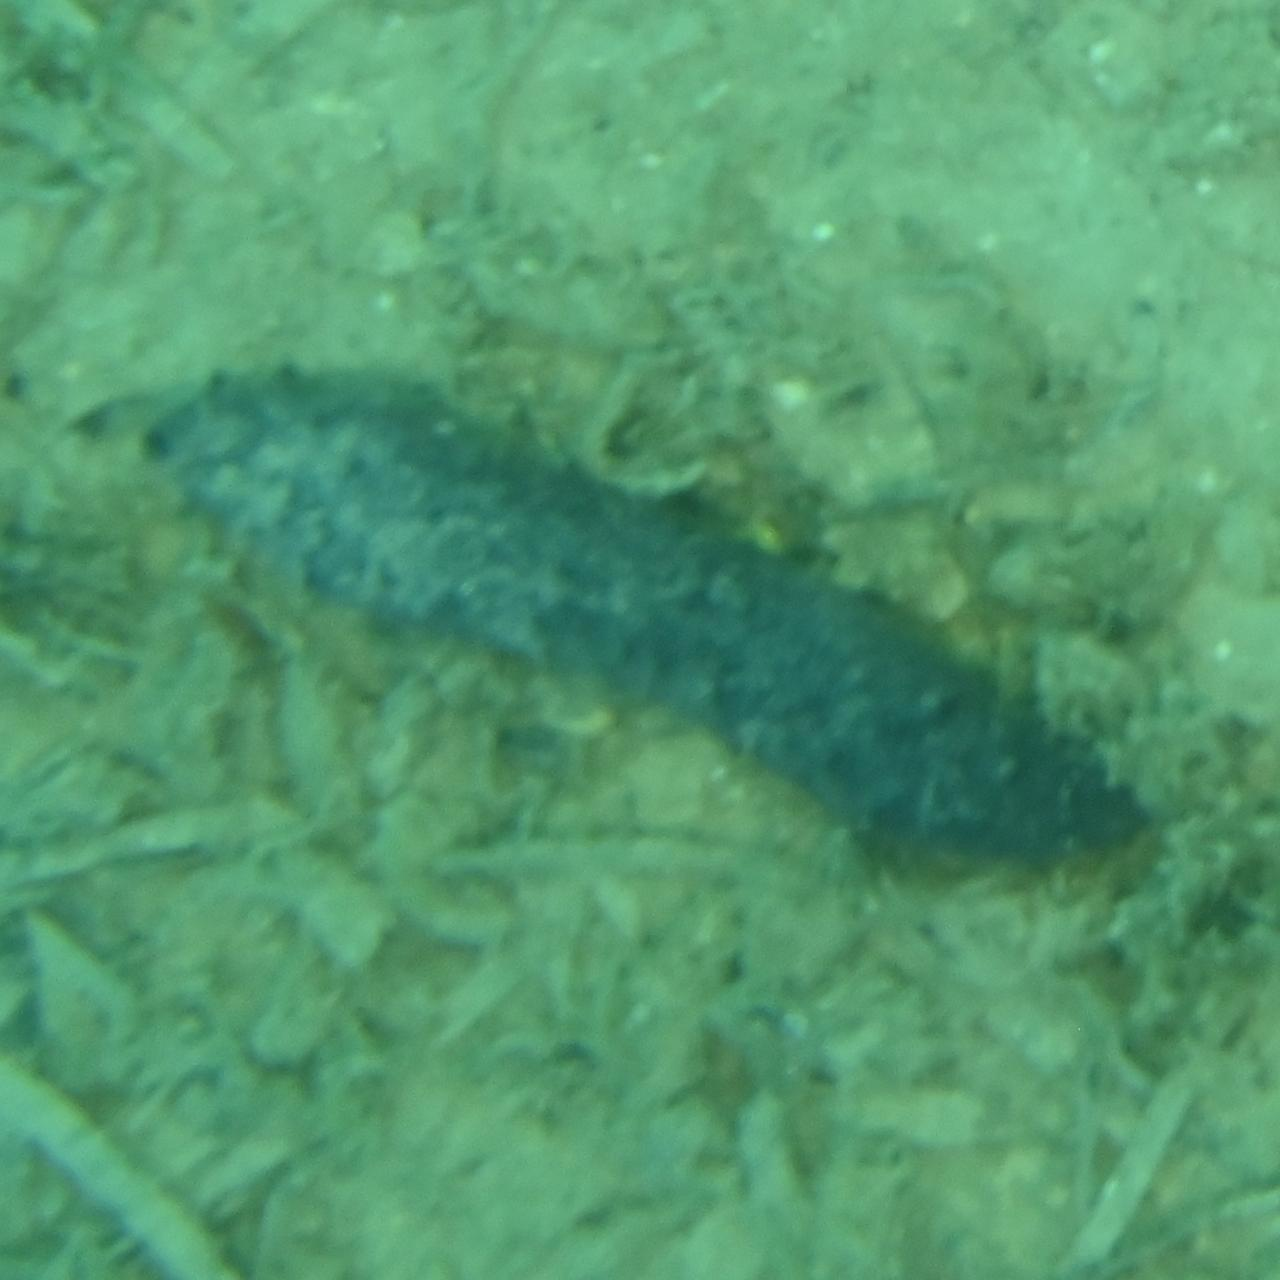Holothuria tubulosa: (125, 374, 1155, 906)
